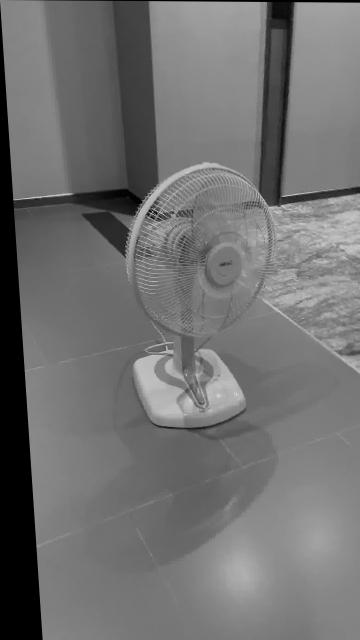Fan: (122, 162, 271, 430)
